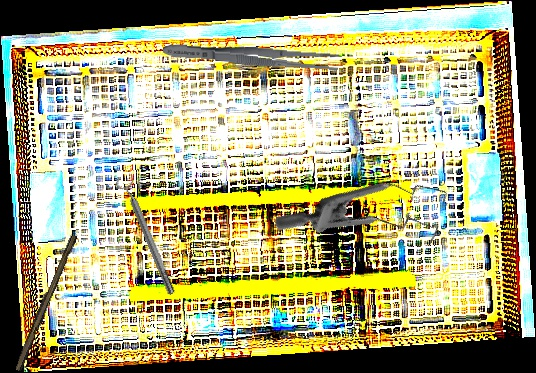Dressing Forceps: (162, 38, 340, 74)
Fixation Ring: (113, 171, 181, 299)
Scalpel Handle: (12, 232, 78, 373)
Speculum: (271, 126, 467, 312)
